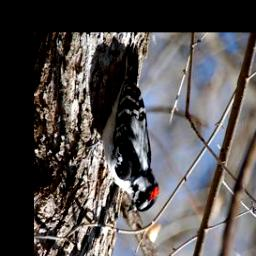Woodpecker: (99, 45, 161, 218)
